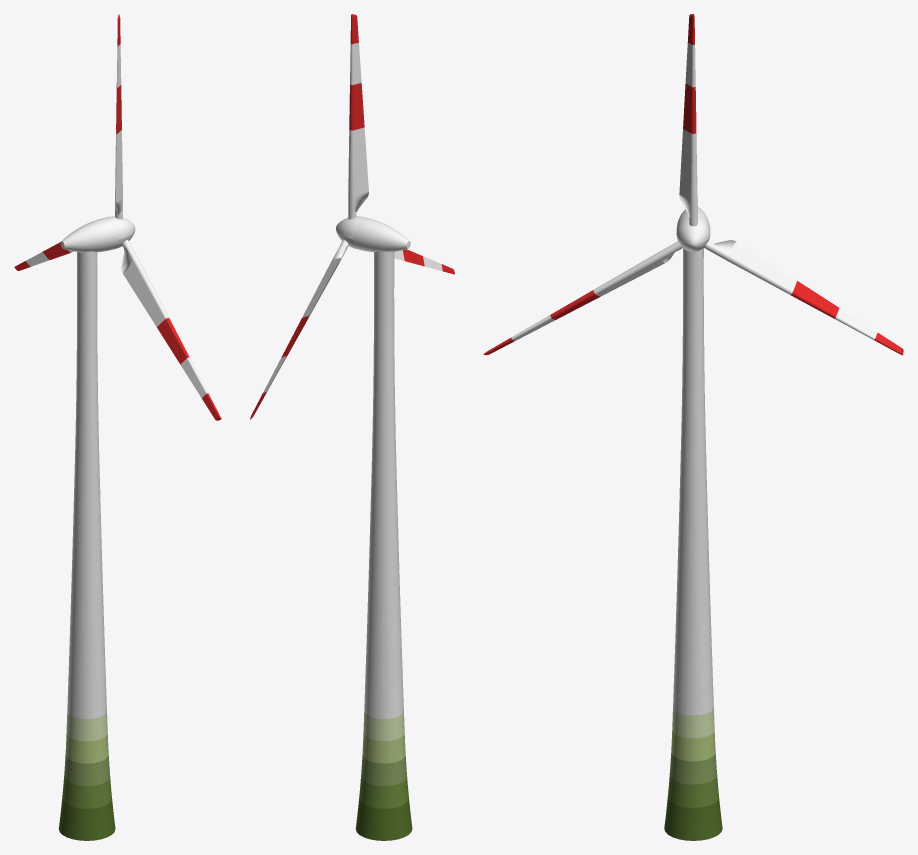
3 renders of one model, left to right at view 1: azimuth 30°, elevation 25°; view 2: azimuth 150°, elevation 25°; view 3: azimuth 270°, elevation 25°, orthographic. The views are drawn at different scales.
Parts seen in each view (by area): view 1: Mast_135, Rotor, Mast_135.005, Hub, Mast_135.002, Mast_135.003, Mast_135.004, Mast_135.001, Rotor.014, Rotor.016; view 2: Mast_135, Rotor, Mast_135.005, Hub, Mast_135.002, Mast_135.003, Mast_135.004, Mast_135.001, Rotor.002, Rotor.004; view 3: Mast_135, Rotor, Mast_135.005, Mast_135.002, Mast_135.003, Mast_135.004, Mast_135.001.
Boxes of the visible parts, x1,y1,x2,y2 form: Mast_135: (67, 251, 106, 718); Rotor: (68, 130, 168, 326); Mast_135.005: (58, 799, 115, 840); Hub: (61, 217, 117, 252); Mast_135.002: (62, 776, 111, 808); Mast_135.003: (64, 755, 109, 785); Mast_135.004: (65, 733, 108, 763); Mast_135.001: (66, 711, 107, 741); Rotor.014: (157, 318, 189, 364); Rotor.016: (180, 357, 207, 397); Mast_135: (364, 251, 403, 718); Rotor: (302, 127, 404, 319); Mast_135.005: (355, 798, 412, 840); Hub: (353, 217, 408, 252); Mast_135.002: (359, 777, 408, 808); Mast_135.003: (361, 755, 406, 785); Mast_135.004: (362, 733, 405, 763); Mast_135.001: (363, 711, 404, 741); Rotor.002: (349, 83, 364, 130); Rotor.004: (350, 42, 361, 85); Mast_135: (673, 248, 713, 715); Rotor: (593, 129, 796, 296); Mast_135.005: (664, 797, 722, 840); Mast_135.002: (667, 775, 718, 807); Mast_135.003: (669, 753, 716, 784); Mast_135.004: (671, 730, 715, 761); Mast_135.001: (672, 707, 714, 738).
Bounding box in the file's own units: 17.23 × 184 × 84.47.
Materials: 9 (7 with a texture image).
